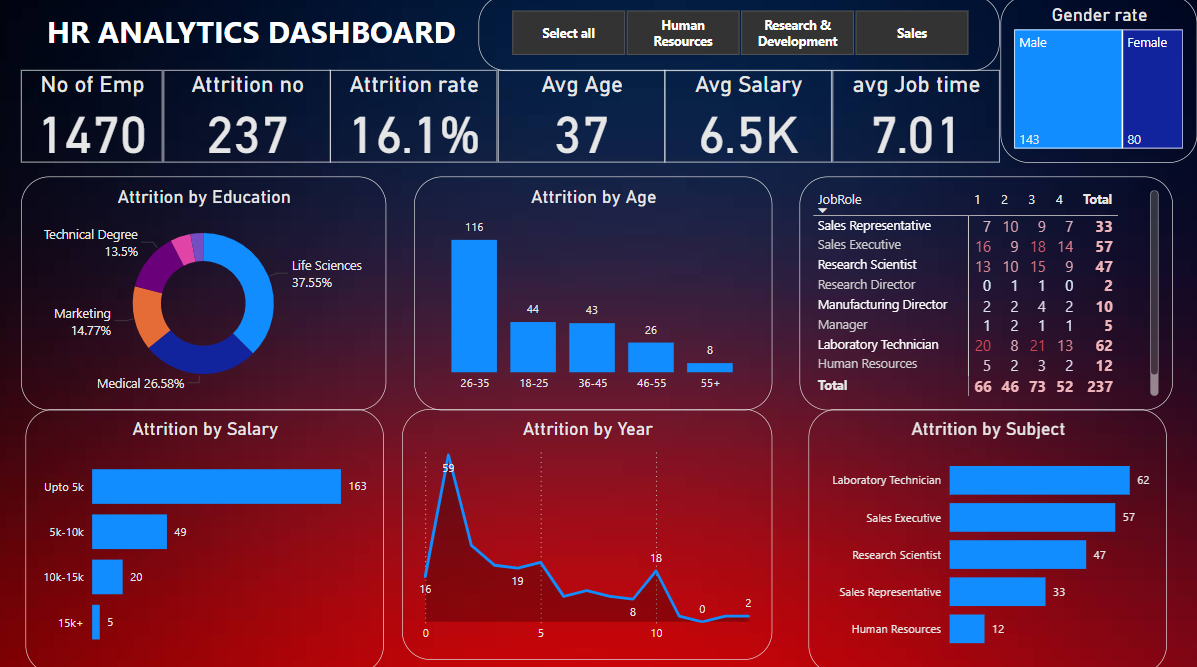

Layout of this report page (visuals, bound fields, positions):
{"tool":"powerbi","page":{"name":"Page 1","canvas":[1280,720],"ordinal":0},"visuals":[{"type":"card","title":"No of Emp","fields":{"Values":["CountNonNull(HR_Analytics DATA (2).EmpID)"]},"box":[32.6,79.6,150.2,97.7],"z":0},{"type":"card","title":"Attrition no","fields":{"Values":["Sum(HR_Analytics DATA (2).AttritionCount)"]},"box":[182.8,79.6,177.3,97.7],"z":1000},{"type":"card","title":"Attrition rate","fields":{"Values":["HR_Analytics DATA (2).AttritionRate"]},"box":[360.1,79.6,177.3,97.7],"z":2000},{"type":"card","title":"Avg Age","fields":{"Values":["Avg(HR_Analytics DATA (2).Age)"]},"box":[537.5,79.6,177.3,97.7],"z":3000},{"type":"card","title":"Avg Salary","fields":{"Values":["Avg(HR_Analytics DATA (2).MonthlyIncome)"]},"box":[714.8,79.6,177.3,97.7],"z":4000},{"type":"card","title":"avg Job time","fields":{"Values":["Avg(HR_Analytics DATA (2).YearsAtCompany)"]},"box":[892.1,79.6,177.3,97.7],"z":5000},{"type":"donutChart","title":"Attrition by Education","fields":{"Category":["HR_Analytics DATA (2).EducationField"],"Y":["Sum(HR_Analytics DATA (2).AttritionCount)"]},"box":[32.6,191.8,387.3,247.9],"z":6000},{"type":"clusteredColumnChart","title":"Attrition by Age","fields":{"Y":["Sum(HR_Analytics DATA (2).AttritionCount)"],"Category":["HR_Analytics DATA (2).AgeGroup"]},"box":[448.8,191.8,380,247.9],"z":7000},{"type":"pivotTable","fields":{"Rows":["HR_Analytics DATA (2).JobRole"],"Columns":["HR_Analytics DATA (2).JobSatisfaction"],"Values":["Sum(HR_Analytics DATA (2).AttritionCount)"]},"box":[857.8,191.8,396.3,247.9],"z":8000},{"type":"clusteredBarChart","title":"Attrition by Salary","fields":{"Category":["HR_Analytics DATA (2).SalarySlab"],"Y":["Sum(HR_Analytics DATA (2).AttritionCount)"]},"box":[36.2,439.7,380,280.5],"z":8001},{"type":"clusteredBarChart","title":"Attrition by Subject","fields":{"Y":["Sum(HR_Analytics DATA (2).AttritionCount)"],"Category":["HR_Analytics DATA (2).JobRole"]},"box":[866.8,439.7,380,280.5],"z":8002},{"type":"areaChart","title":"Attrition by Year","fields":{"Category":["HR_Analytics DATA (2).YearsAtCompany"],"Y":["Sum(HR_Analytics DATA (2).AttritionCount)"]},"box":[436.1,439.7,392.7,266],"z":8003},{"type":"treemap","title":"Gender rate","fields":{"Values":["Sum(HR_Analytics DATA (2).AttritionCount)"],"Group":["HR_Analytics DATA (2).Gender"]},"box":[1070.4,0,208.9,178],"z":8004},{"type":"slicer","fields":{"Values":["HR_Analytics DATA (2).Department"]},"box":[517.4,0,553,80.7],"z":8005},{"type":"textbox","box":[35.6,11.9,481.8,68.8],"z":8006}]}

Visuals, with their boxes in screenshot pixels (x1, y1, x2, y2), scaled from the page's 1280x720 canvas onto the 1197x667 screenshot:
"No of Emp" card: <bbox>30, 74, 171, 164</bbox>
"Attrition no" card: <bbox>171, 74, 337, 164</bbox>
"Attrition rate" card: <bbox>337, 74, 503, 164</bbox>
"Avg Age" card: <bbox>503, 74, 668, 164</bbox>
"Avg Salary" card: <bbox>668, 74, 834, 164</bbox>
"avg Job time" card: <bbox>834, 74, 1000, 164</bbox>
"Attrition by Education" donutChart: <bbox>30, 178, 393, 407</bbox>
"Attrition by Age" clusteredColumnChart: <bbox>420, 178, 775, 407</bbox>
pivotTable - HR_Analytics DATA (2).JobRole x HR_Analytics DATA (2).JobSatisfaction: <bbox>802, 178, 1173, 407</bbox>
"Attrition by Salary" clusteredBarChart: <bbox>34, 407, 389, 666</bbox>
"Attrition by Subject" clusteredBarChart: <bbox>811, 407, 1166, 666</bbox>
"Attrition by Year" areaChart: <bbox>408, 407, 775, 654</bbox>
"Gender rate" treemap: <bbox>1001, 0, 1196, 165</bbox>
slicer - HR_Analytics DATA (2).Department: <bbox>484, 0, 1001, 75</bbox>
textbox: <bbox>33, 11, 484, 75</bbox>
